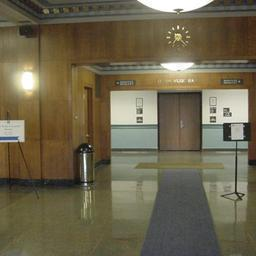Bote de Basura: (75, 141, 99, 189)
Otro Obstaculo: (219, 117, 249, 202)
Puerta: (160, 96, 200, 151)
